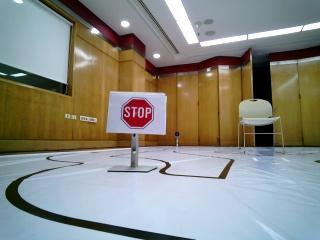stop: (106, 92, 161, 132)
